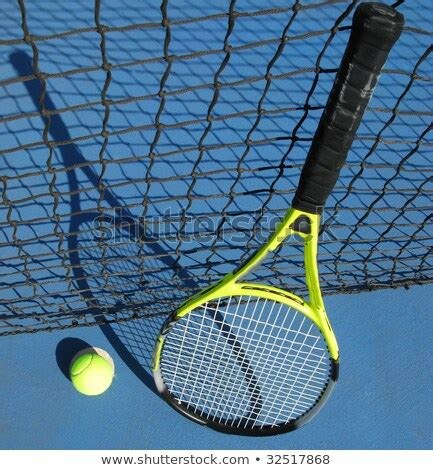tennis_ball: (71, 354, 110, 395)
